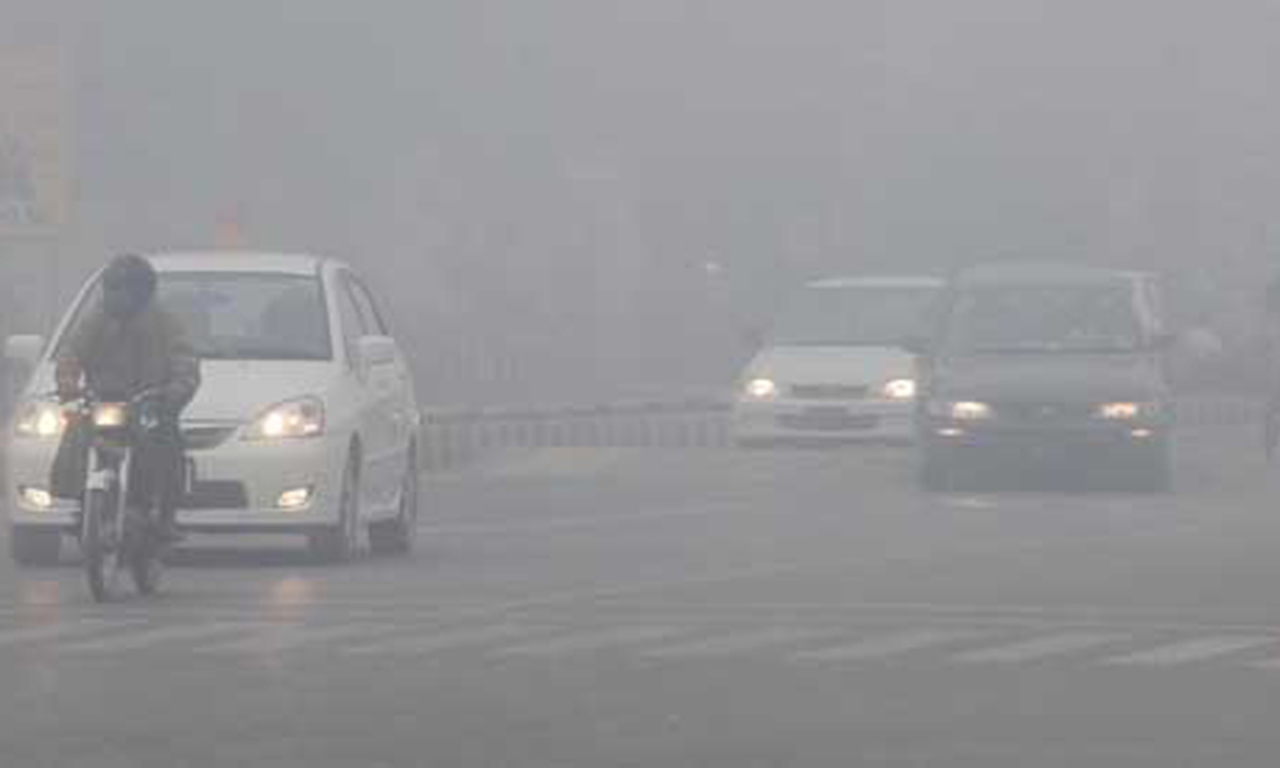car: (7, 252, 421, 571), (902, 264, 1181, 496), (744, 271, 948, 451)
motorcycle: (44, 385, 183, 596)
person: (38, 251, 260, 574)
